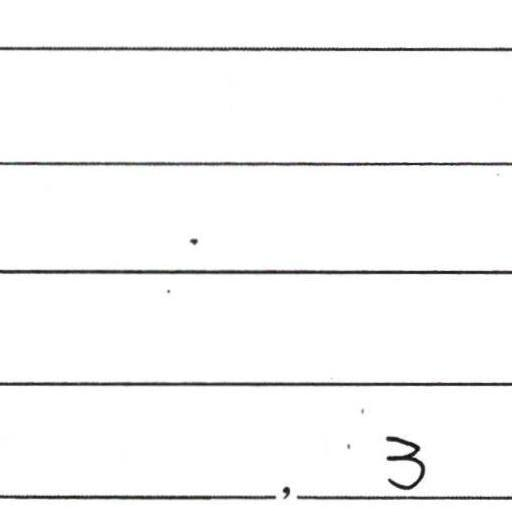ans: (379, 432, 430, 495)
